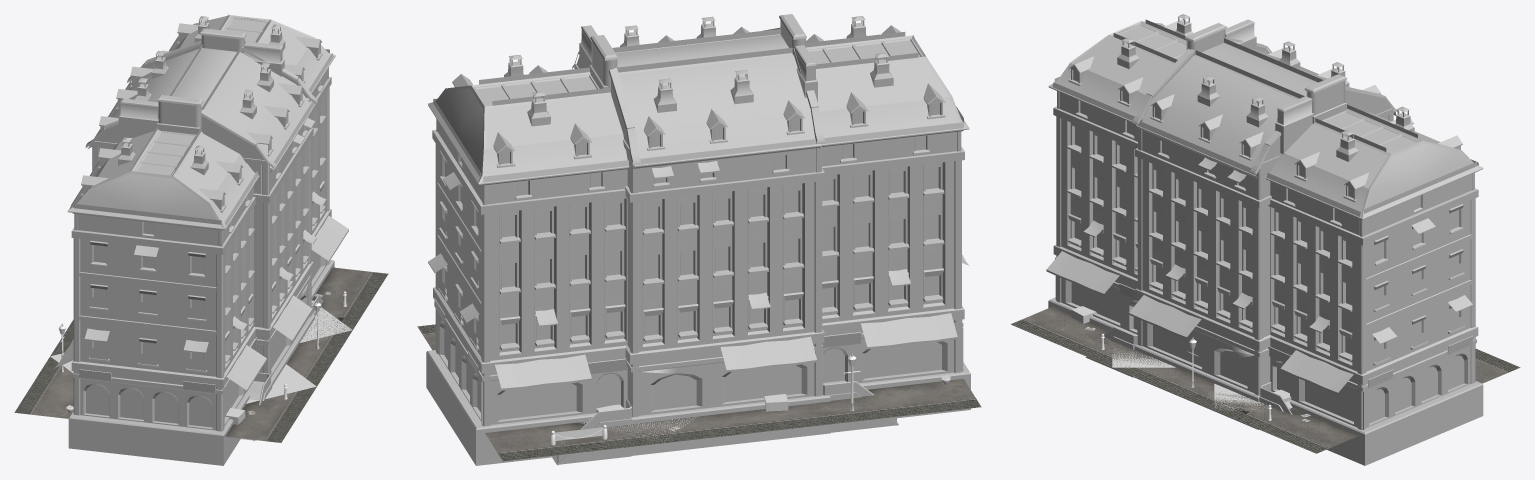
Rendered from diagonal.gltf.
3 renders of one model, left to right at view 1: azimuth 30°, elevation 25°; view 2: azimuth 150°, elevation 25°; view 3: azimuth 270°, elevation 25°, orthographic. The views are drawn at different scales.
Visible parts, largest first — view 1: _lod0, decal, BuildBlocker.001, BuildBlocker.002; view 2: _lod0, decal, prop_chain_fence_0; view 3: _lod0, decal, BuildBlocker.001, BuildBlocker.002.
Part boxes in pixels (x1,y1,x2,y2): _lod0: [54, 14, 348, 465]; decal: [14, 267, 388, 442]; BuildBlocker.001: [246, 364, 316, 403]; BuildBlocker.002: [300, 307, 351, 342]; _lod0: [426, 14, 970, 465]; decal: [417, 324, 981, 461]; prop_chain_fence_0: [550, 425, 607, 445]; _lod0: [1046, 14, 1483, 465]; decal: [1011, 306, 1520, 453]; BuildBlocker.001: [1112, 349, 1175, 367]; BuildBlocker.002: [1214, 383, 1290, 410].
Size of what is drawn, in the model's own units: 5 by 3.45 by 5.
